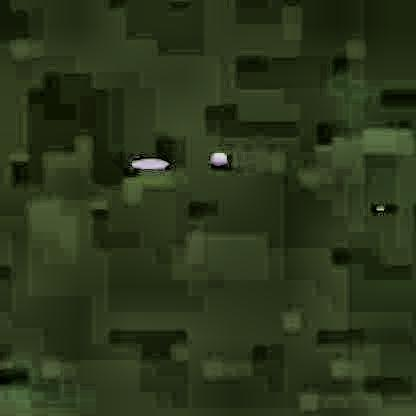golfball: (206, 148, 224, 165)
